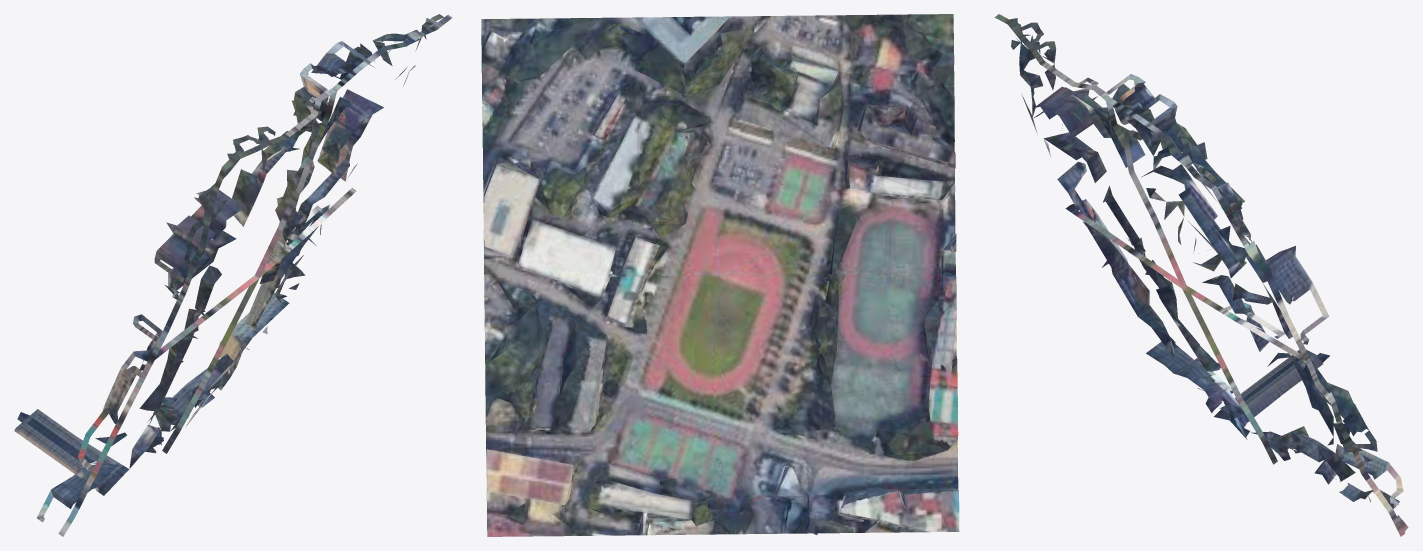
The picture shows the model from 3 angles, left to right: view 1: azimuth 30°, elevation 25°; view 2: azimuth 150°, elevation 25°; view 3: azimuth 270°, elevation 25°; orthographic projection. The views are drawn at different scales.
Size of the model in its own units: 317 by 291 by 258.
Materials: 2 (2 with a texture image).
